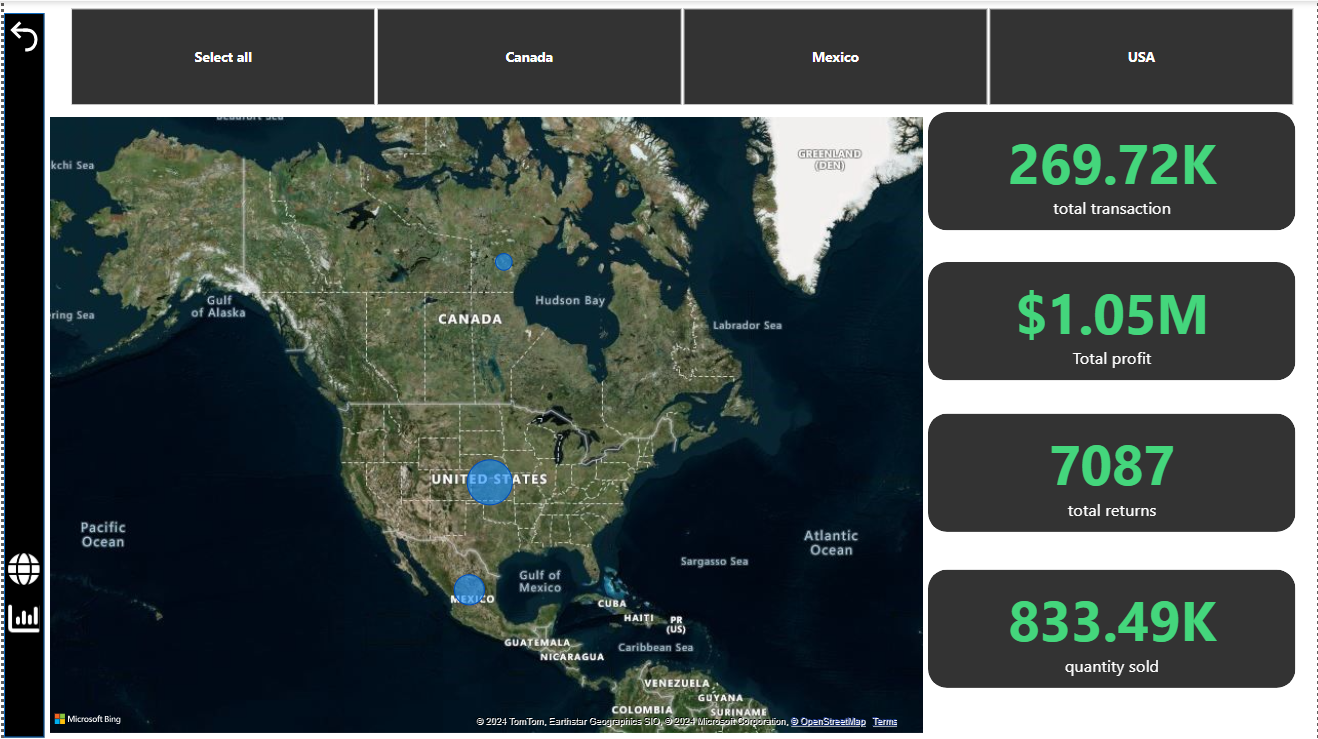

What the dashboard file says about the page in this screenshot:
{"tool":"powerbi","page":{"name":"map","canvas":[1280,720],"ordinal":1},"visuals":[{"type":"map","fields":{"Size":["Measures Table(DAX).total transaction"],"Category":["Customers.country"]},"box":[39.5,108.1,860.8,610.9],"z":0},{"type":"slicer","fields":{"Values":["Stores.country"]},"box":[39.5,0,1240.8,108.1],"z":1000},{"type":"shape","box":[900.3,108.1,358.1,115.5],"z":2000},{"type":"card","fields":{"Values":["Measures Table(DAX).total transaction"]},"box":[900.3,108.1,358.1,115.5],"z":3000},{"type":"shape","box":[900.3,553.9,358.1,115.5],"z":4000},{"type":"shape","box":[900.3,401.9,358.1,115.5],"z":5000},{"type":"shape","box":[900.3,254.3,358.1,115.5],"z":6000},{"type":"card","fields":{"Values":["Measures Table(DAX).Total profit"]},"box":[900.3,254.3,358.1,115.5],"z":7000},{"type":"card","fields":{"Values":["Measures Table(DAX).total returns"]},"box":[900.3,401.9,358.1,115.5],"z":8000},{"type":"card","fields":{"Values":["Measures Table(DAX).quantity sold"]},"box":[900.3,553.9,358.1,115.5],"z":9000},{"type":"shape","box":[0,11.7,39.5,705.9],"z":10000},{"type":"actionButton","box":[0,14.6,39.5,39.5],"z":11000},{"type":"actionButton","box":[0,573.8,38.8,54.3],"z":12000},{"type":"actionButton","box":[0,533.5,38.8,40.3],"z":13000}]}

Visuals, with their boxes in screenshot pixels (x1, y1, x2, y2):
map - Measures Table(DAX).total transaction x Customers.country: [43, 113, 913, 730]
slicer - Stores.country: [43, 3, 1297, 113]
shape: [913, 113, 1275, 229]
card - Measures Table(DAX).total transaction: [913, 113, 1275, 229]
shape: [913, 563, 1275, 680]
shape: [913, 410, 1275, 526]
shape: [913, 260, 1275, 377]
card - Measures Table(DAX).Total profit: [913, 260, 1275, 377]
card - Measures Table(DAX).total returns: [913, 410, 1275, 526]
card - Measures Table(DAX).quantity sold: [913, 563, 1275, 680]
shape: [3, 15, 43, 729]
actionButton: [3, 18, 43, 58]
actionButton: [3, 583, 43, 638]
actionButton: [3, 543, 43, 583]
